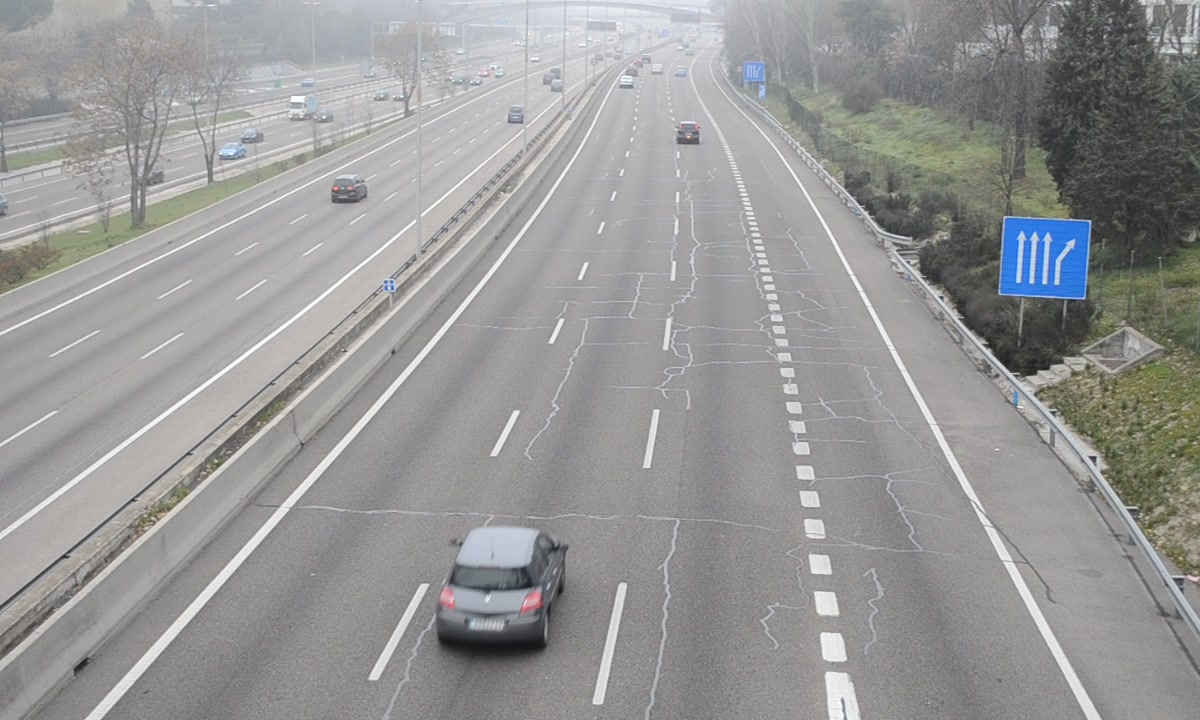car: (437, 526, 566, 646), (676, 119, 700, 143)
